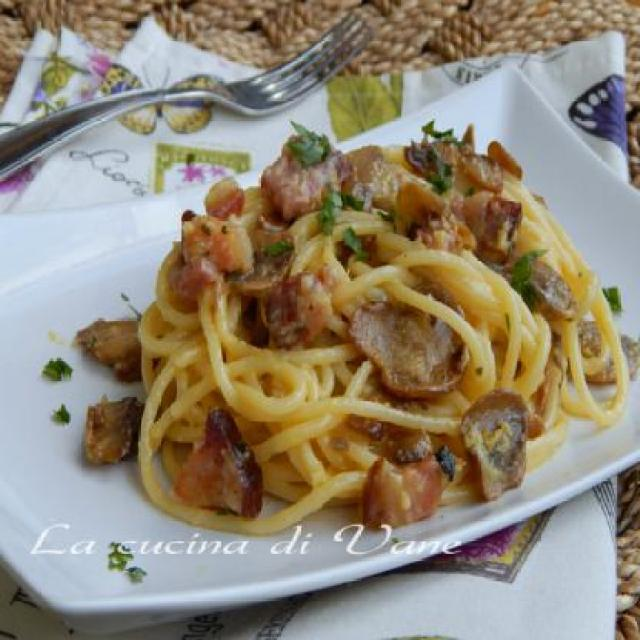Pasta with carbonara sauce: (70, 128, 616, 556)
